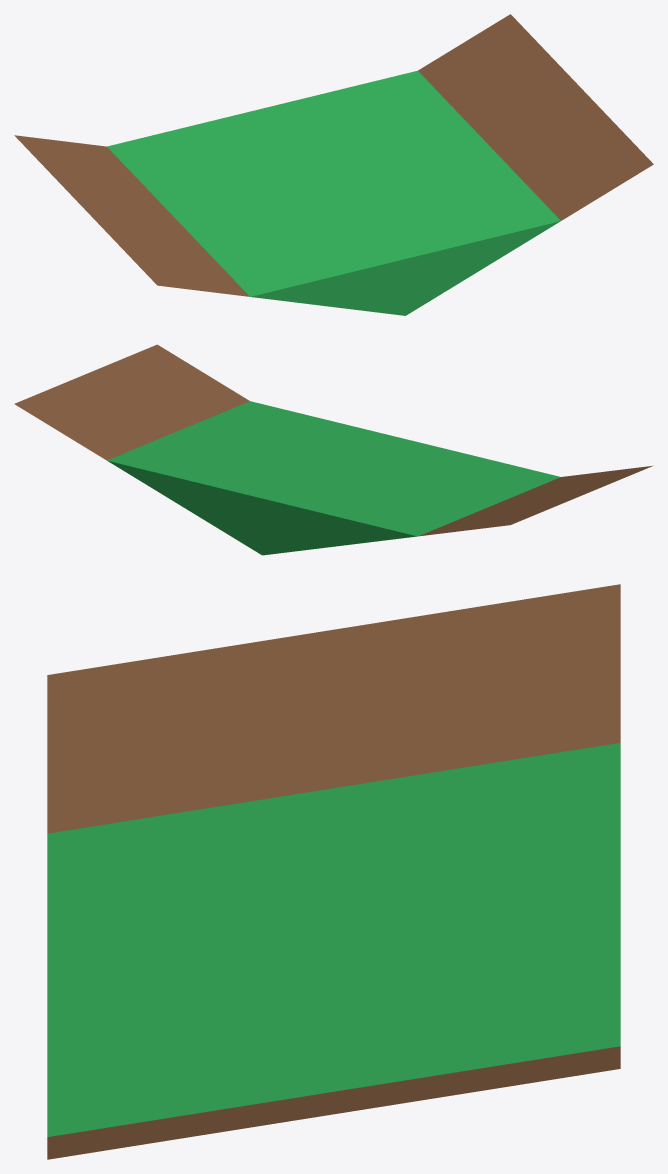
The model's file is SPW_Terrain_River_Plan A_Down.gltf.
3 views of the same model, one above another, from view 1: azimuth 30°, elevation 25°; view 2: azimuth 150°, elevation 25°; view 3: azimuth 270°, elevation 25° (orthographic). The views are drawn at different scales.
Visible parts, largest first — view 1: SPW_Terrain_River_Plan_A_Down; view 2: SPW_Terrain_River_Plan_A_Down; view 3: SPW_Terrain_River_Plan_A_Down.
Part boxes in pixels (x1,y1,x2,y2): SPW_Terrain_River_Plan_A_Down: (14, 14, 653, 315); SPW_Terrain_River_Plan_A_Down: (14, 344, 653, 555); SPW_Terrain_River_Plan_A_Down: (47, 584, 620, 1159).
Size of the model in its own units: 1575 by 413 by 787.
1 material, 1 textured.
